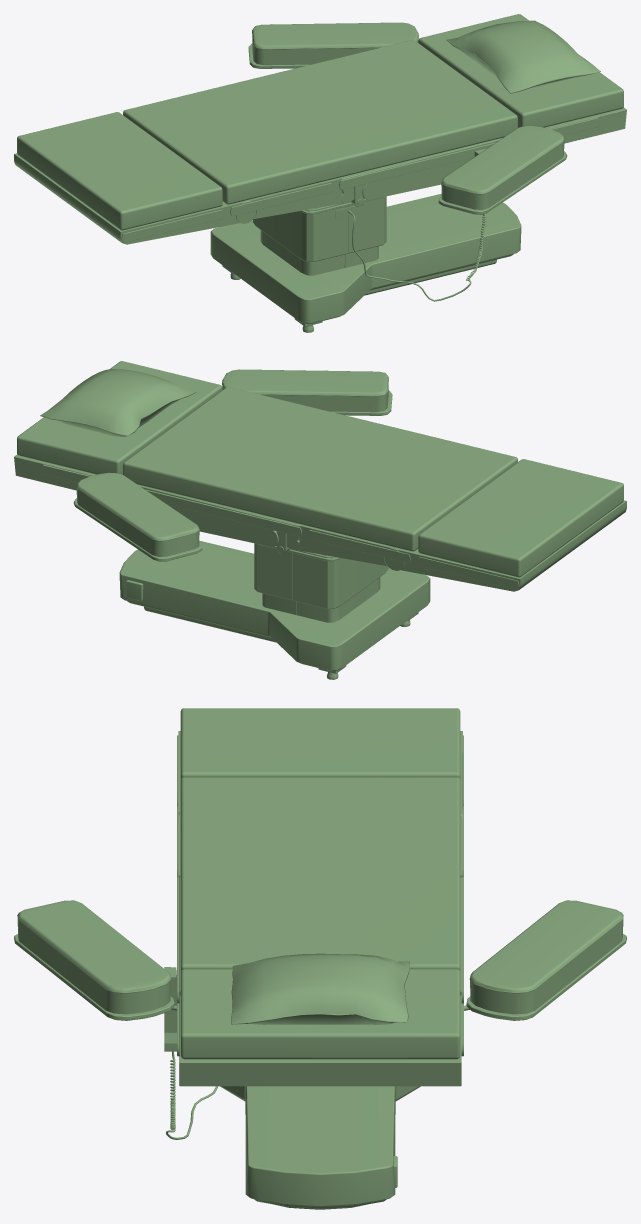
Rendered from SurgeryTable.fbx.
The picture shows the model from 3 angles, top to bottom: view 1: azimuth 30°, elevation 25°; view 2: azimuth 150°, elevation 25°; view 3: azimuth 270°, elevation 25°; orthographic projection. The views are drawn at different scales.
Visible parts, largest first — view 1: Furniture_SurgeryTable_01:Furniture_SurgeryTableMiddle_01, Furniture_SurgeryTable_01:Furniture_SurgeryTableBottom_01, Furniture_SurgeryTable_01:Furniture_SurgeryTableEnd_01, Furniture_SurgeryTable_01:Furniture_SurgeryTableTop_01, Furniture_SurgeryTable_01:Furniture_KneeCushion_01, Furniture_SurgeryTable_01:Furniture_RemoteCord_01; view 2: Furniture_SurgeryTable_01:Furniture_SurgeryTableMiddle_01, Furniture_SurgeryTable_01:Furniture_SurgeryTableBottom_01, Furniture_SurgeryTable_01:Furniture_SurgeryTableEnd_01, Furniture_SurgeryTable_01:Furniture_SurgeryTableTop_01, Furniture_SurgeryTable_01:Furniture_KneeCushion_01; view 3: Furniture_SurgeryTable_01:Furniture_SurgeryTableMiddle_01, Furniture_SurgeryTable_01:Furniture_SurgeryTableTop_01, Furniture_SurgeryTable_01:Furniture_KneeCushion_01, Furniture_SurgeryTable_01:Furniture_SurgeryTableEnd_01, Furniture_SurgeryTable_01:Furniture_SurgeryTableBottom_01, Furniture_SurgeryTable_01:Furniture_Remote_01, Furniture_SurgeryTable_01:Furniture_RemoteCord_01.
Boxes of the visible parts, x1,y1,x2,y2 form: Furniture_SurgeryTable_01:Furniture_SurgeryTableMiddle_01: [123, 40, 517, 218]; Furniture_SurgeryTable_01:Furniture_SurgeryTableBottom_01: [210, 193, 521, 332]; Furniture_SurgeryTable_01:Furniture_SurgeryTableEnd_01: [14, 112, 256, 244]; Furniture_SurgeryTable_01:Furniture_SurgeryTableTop_01: [418, 14, 626, 143]; Furniture_SurgeryTable_01:Furniture_KneeCushion_01: [248, 22, 567, 214]; Furniture_SurgeryTable_01:Furniture_RemoteCord_01: [347, 210, 486, 301]; Furniture_SurgeryTable_01:Furniture_SurgeryTableMiddle_01: [123, 387, 517, 566]; Furniture_SurgeryTable_01:Furniture_SurgeryTableBottom_01: [119, 540, 430, 679]; Furniture_SurgeryTable_01:Furniture_SurgeryTableEnd_01: [384, 459, 626, 591]; Furniture_SurgeryTable_01:Furniture_SurgeryTableTop_01: [14, 361, 222, 490]; Furniture_SurgeryTable_01:Furniture_KneeCushion_01: [73, 369, 392, 561]; Furniture_SurgeryTable_01:Furniture_SurgeryTableMiddle_01: [177, 777, 463, 1003]; Furniture_SurgeryTable_01:Furniture_SurgeryTableTop_01: [177, 953, 463, 1086]; Furniture_SurgeryTable_01:Furniture_KneeCushion_01: [14, 900, 626, 1020]; Furniture_SurgeryTable_01:Furniture_SurgeryTableEnd_01: [177, 708, 463, 818]; Furniture_SurgeryTable_01:Furniture_SurgeryTableBottom_01: [220, 1086, 420, 1209]; Furniture_SurgeryTable_01:Furniture_Remote_01: [164, 967, 176, 1051]; Furniture_SurgeryTable_01:Furniture_RemoteCord_01: [166, 1051, 217, 1139].
Size of the model in its own units: 27.89 by 10.84 by 21.92.
